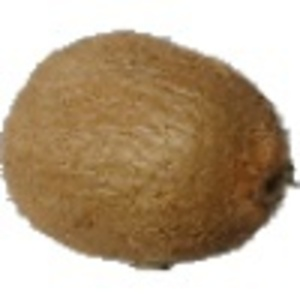kiwi: (1, 28, 298, 273)
